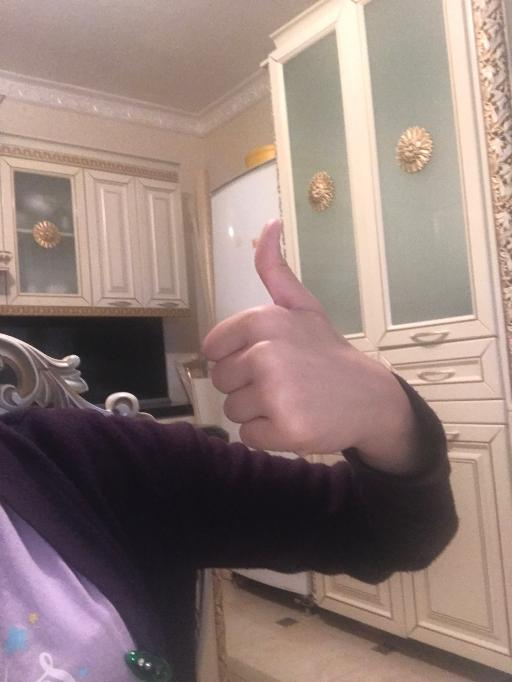like: (196, 214, 376, 458)
